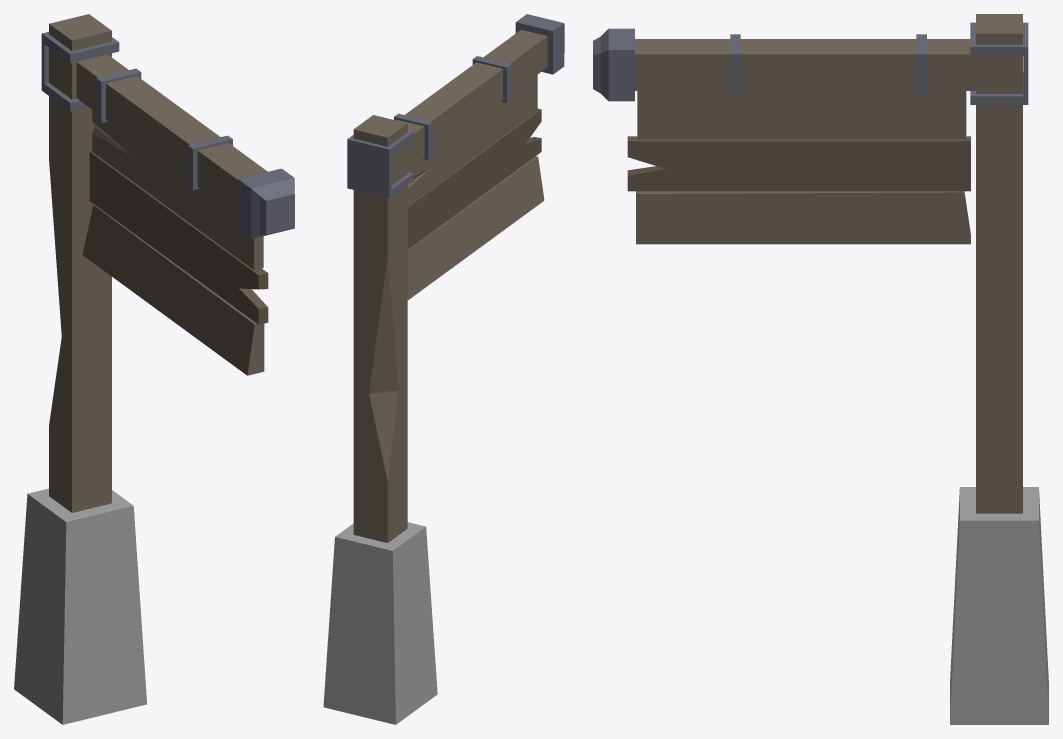
Rendered from Pointer.glb.
The picture shows the model from 3 angles, left to right: view 1: azimuth 30°, elevation 25°; view 2: azimuth 150°, elevation 25°; view 3: azimuth 270°, elevation 25°; orthographic projection. The views are drawn at different scales.
Visible parts, largest first — view 1: Pointer; view 2: Pointer; view 3: Pointer.
Boxes of the visible parts, x1=… form: Pointer: x1=14, y1=14, x2=294, y2=724; Pointer: x1=323, y1=14, x2=564, y2=724; Pointer: x1=593, y1=14, x2=1048, y2=724.
Bounding box in the file's own units: 0.3497 × 2.65 × 1.61.
1 material, 1 textured.
